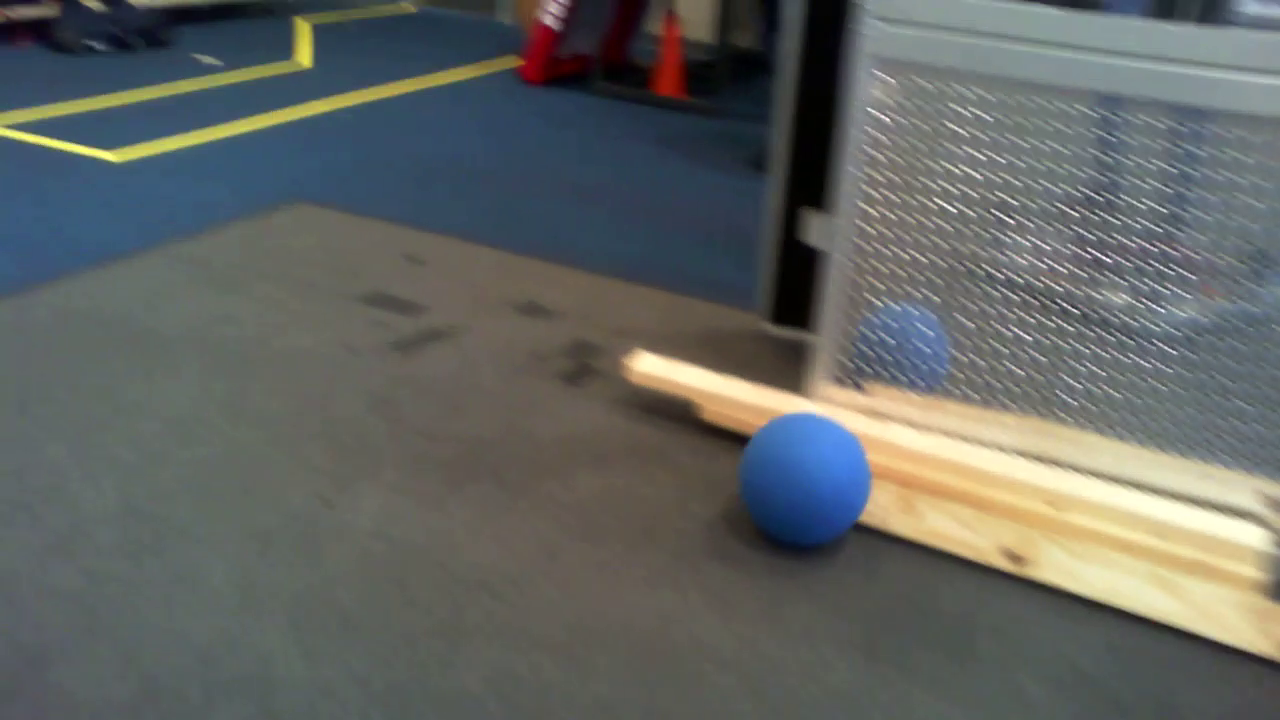blue_cargo: (732, 407, 862, 545)
